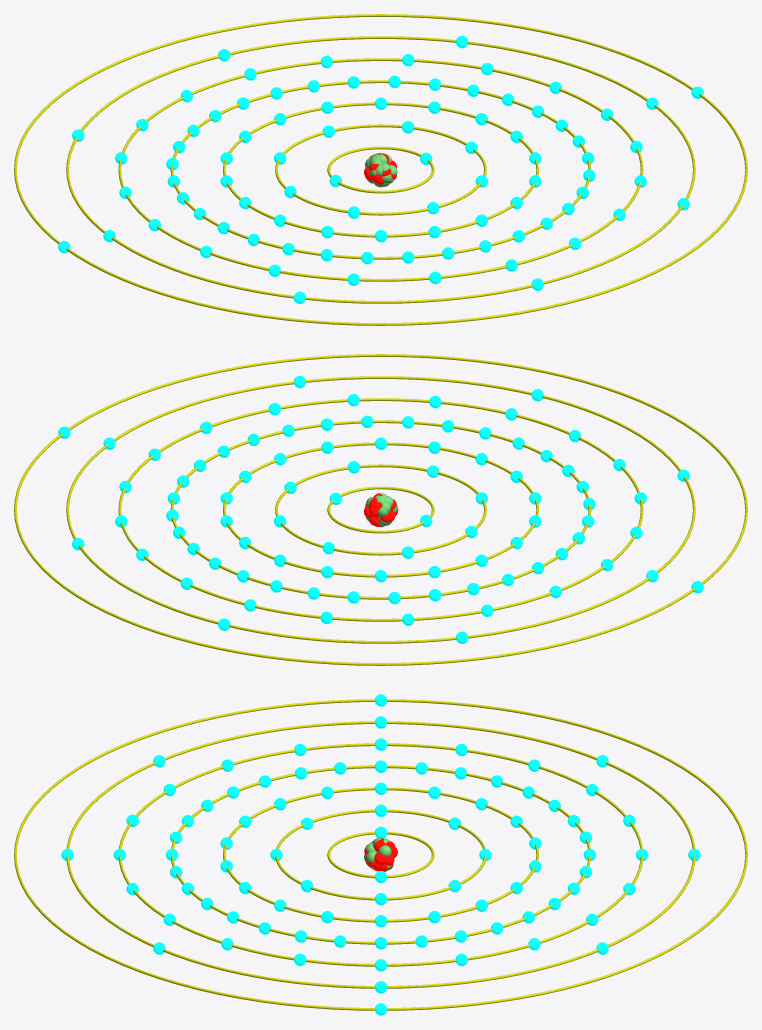
The model's file is atomo_90.glb.
3 views of the same model, one above another, from view 1: azimuth 30°, elevation 25°; view 2: azimuth 150°, elevation 25°; view 3: azimuth 270°, elevation 25° (orthographic).
Parts seen in each view (by area): view 1: orbital_7, orbital_6, orbital_5, orbital_4, orbital_3, orbital_2, orbital_1; view 2: orbital_7, orbital_6, orbital_5, orbital_4, orbital_3, orbital_2, orbital_1; view 3: orbital_7, orbital_6, orbital_5, orbital_4, orbital_3, orbital_2, orbital_1.
Part boxes in pixels (x1,y1,x2,y2): orbital_7: [14, 14, 747, 325]; orbital_6: [66, 36, 695, 303]; orbital_5: [118, 58, 643, 281]; orbital_4: [170, 80, 591, 259]; orbital_3: [223, 102, 538, 237]; orbital_2: [275, 124, 486, 215]; orbital_1: [327, 146, 434, 193]; orbital_7: [14, 354, 747, 665]; orbital_6: [66, 376, 695, 643]; orbital_5: [118, 398, 643, 621]; orbital_4: [170, 420, 591, 599]; orbital_3: [223, 442, 538, 577]; orbital_2: [275, 464, 486, 555]; orbital_1: [327, 486, 434, 533]; orbital_7: [14, 699, 747, 1010]; orbital_6: [66, 721, 695, 988]; orbital_5: [118, 743, 643, 966]; orbital_4: [171, 765, 590, 944]; orbital_3: [223, 787, 538, 922]; orbital_2: [275, 809, 486, 900]; orbital_1: [327, 831, 434, 878].
Bounding box in the file's own units: 21.36 × 0.9986 × 21.08.
